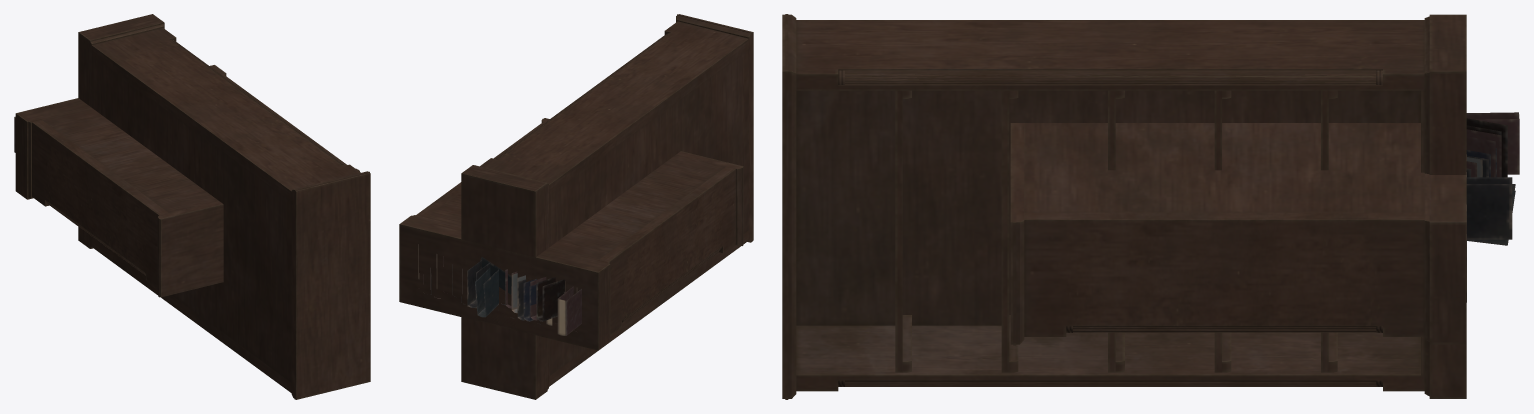
File: wooden-bookcases-with-books-d0618a.glb
3 views of the same model, side by side, from view 1: azimuth 30°, elevation 25°; view 2: azimuth 150°, elevation 25°; view 3: azimuth 270°, elevation 25° (orthographic). The views are drawn at different scales.
Visible parts, largest first — view 1: PropMesh; view 2: PropMesh; view 3: PropMesh.
Part boxes in pixels (x1,y1,x2,y2): PropMesh: (14, 14, 370, 399); PropMesh: (399, 14, 753, 399); PropMesh: (782, 14, 1519, 399).
Bounding box in the file's own units: 0.954 × 0.954 × 1.94.
1 material, 1 textured.
